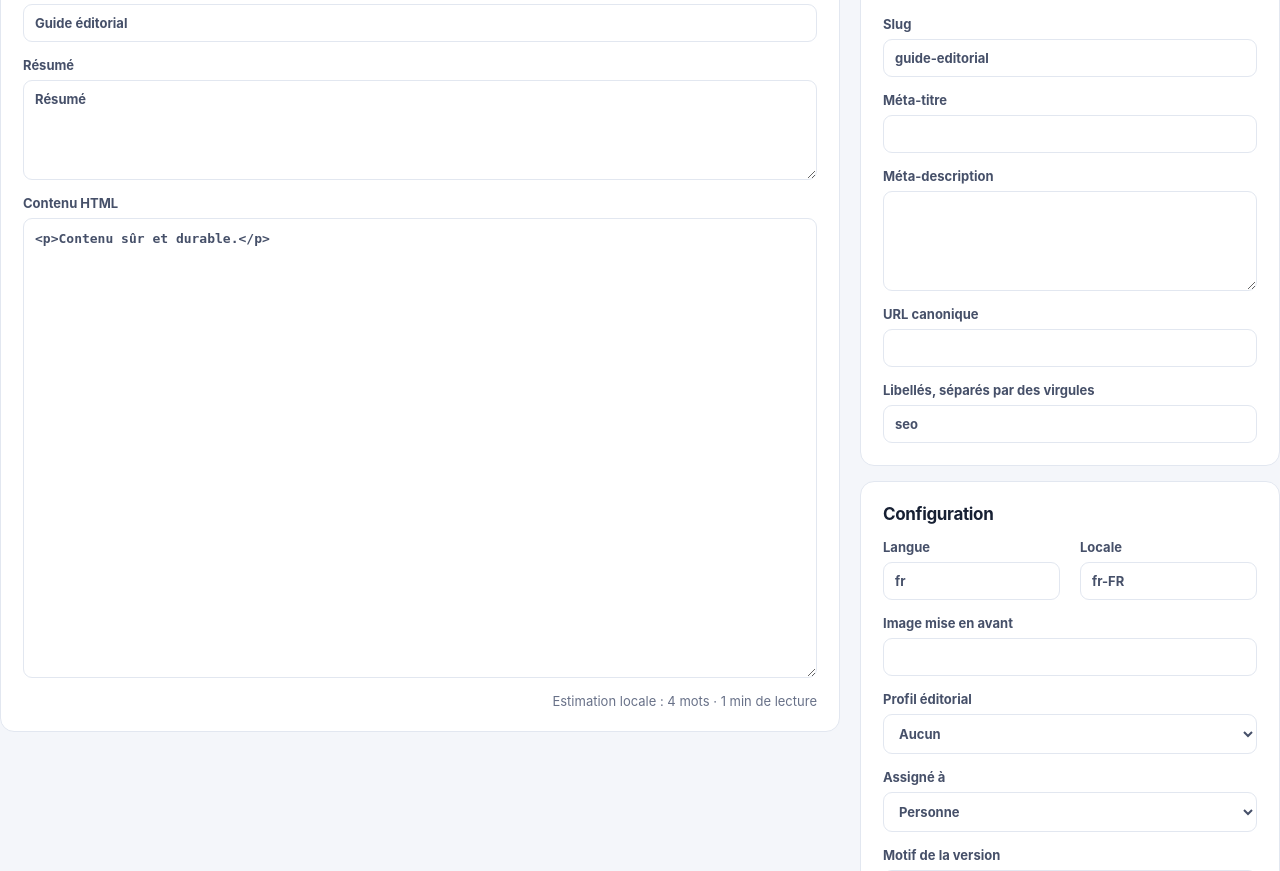
Test: Interface de contenu Phase 3A › hydrates the editor, exposes revision navigation, and computes local metrics
(page scrolled)
Expected: the field showing "Guide éditorial" is shown, [23,4,817,42]
Replace the text in the text box labelled "Contenu HTML" with "<p>Un deux trois quatre cinq.</p>". click: point(420, 448)
box: [23,218,817,678]
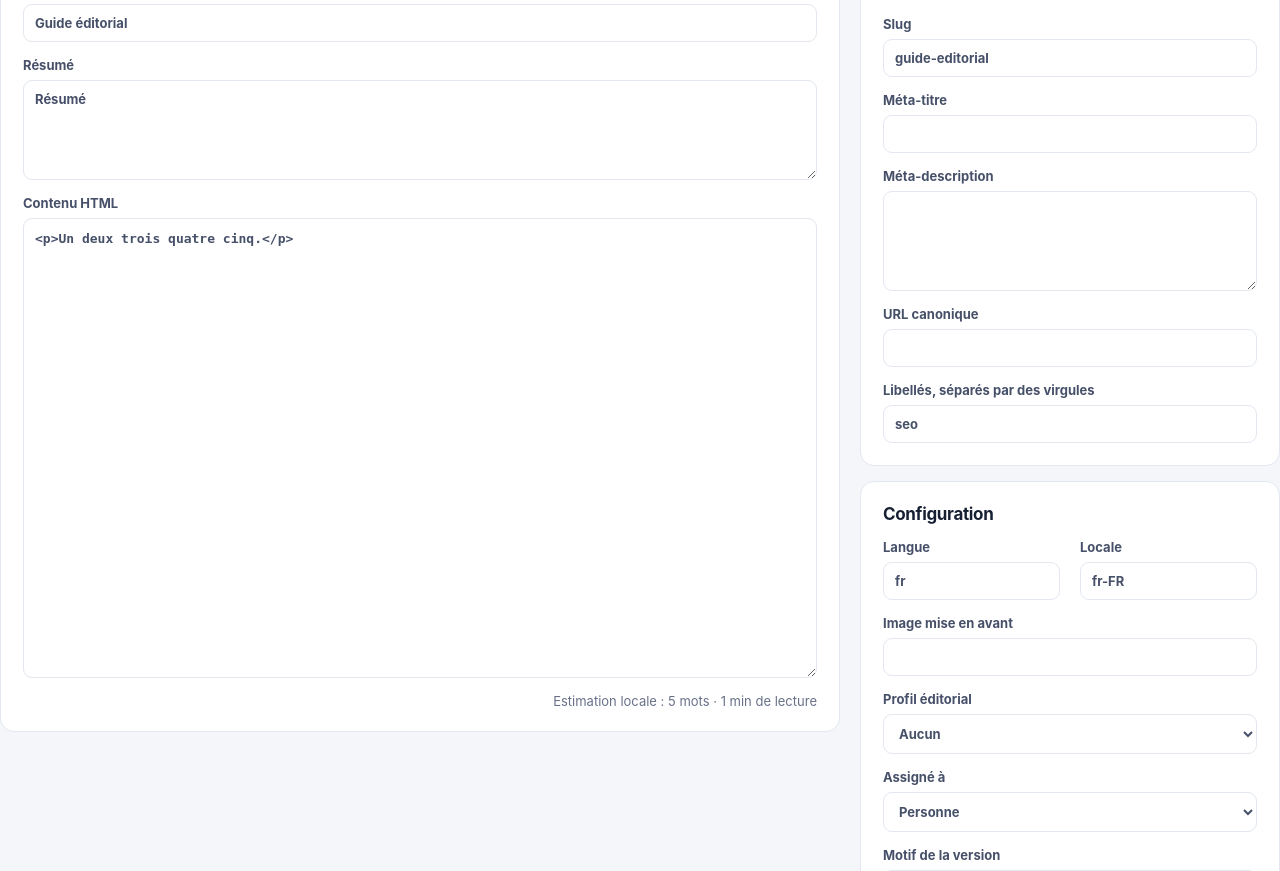
Now the text "Estimation locale : 5 mots · 1 min de lecture" is shown, box [553,693,817,709]
